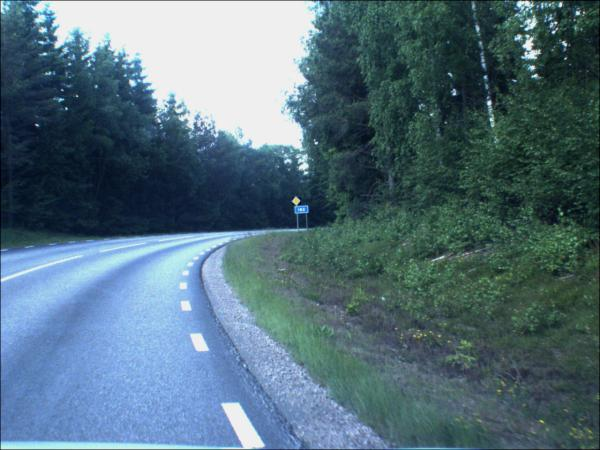PRIORITY_ROAD: (293, 198, 303, 207)
